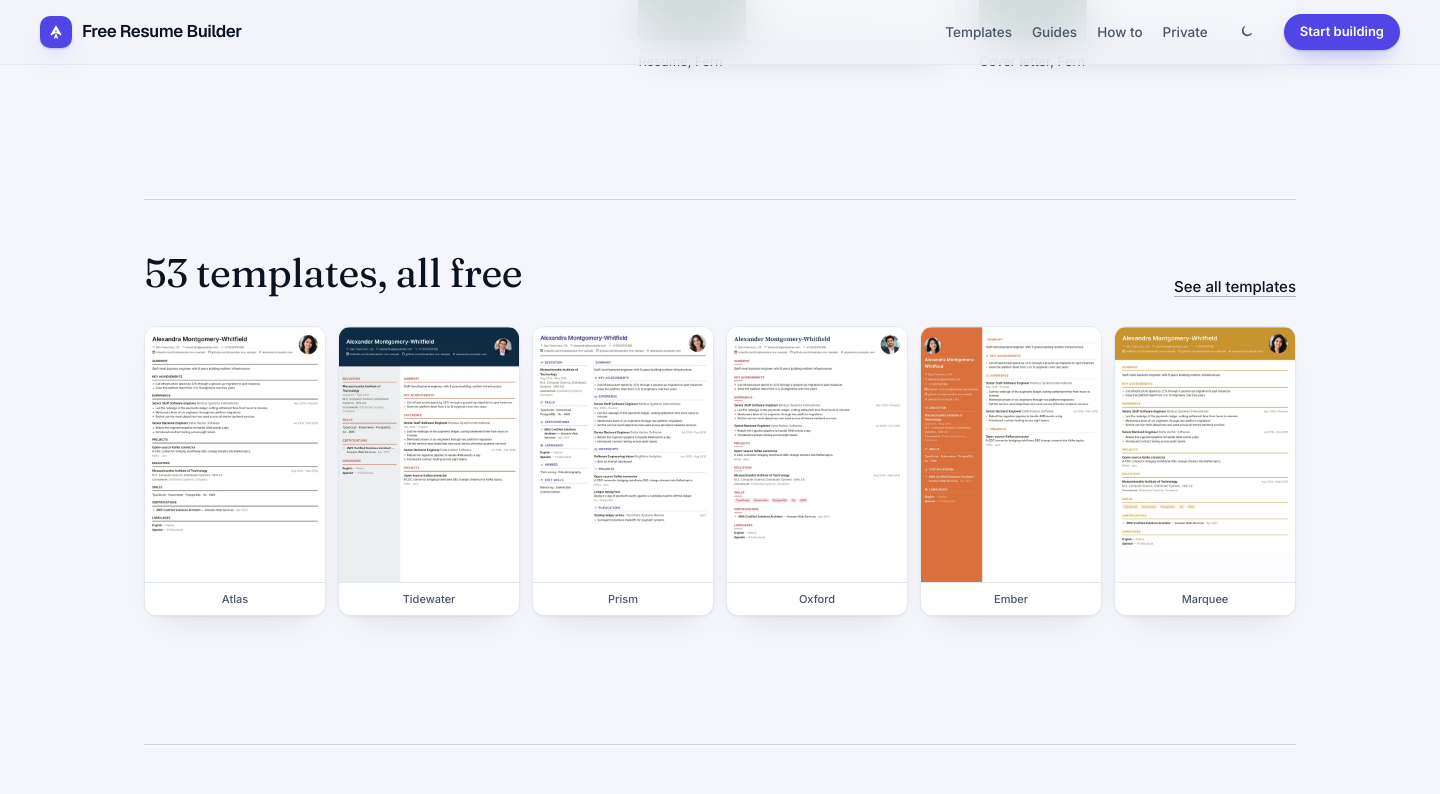
Scenario: homepage › opens the template preview modal from a home-strip card instead of dumping every card onto /templates
(page scrolled)
expect the link "See all templates" is shown: met, box [1174,276,1296,298]
Click the button with aria-label "Preview Atlas layout". click: x=235, y=471
box: [144,326,326,616]
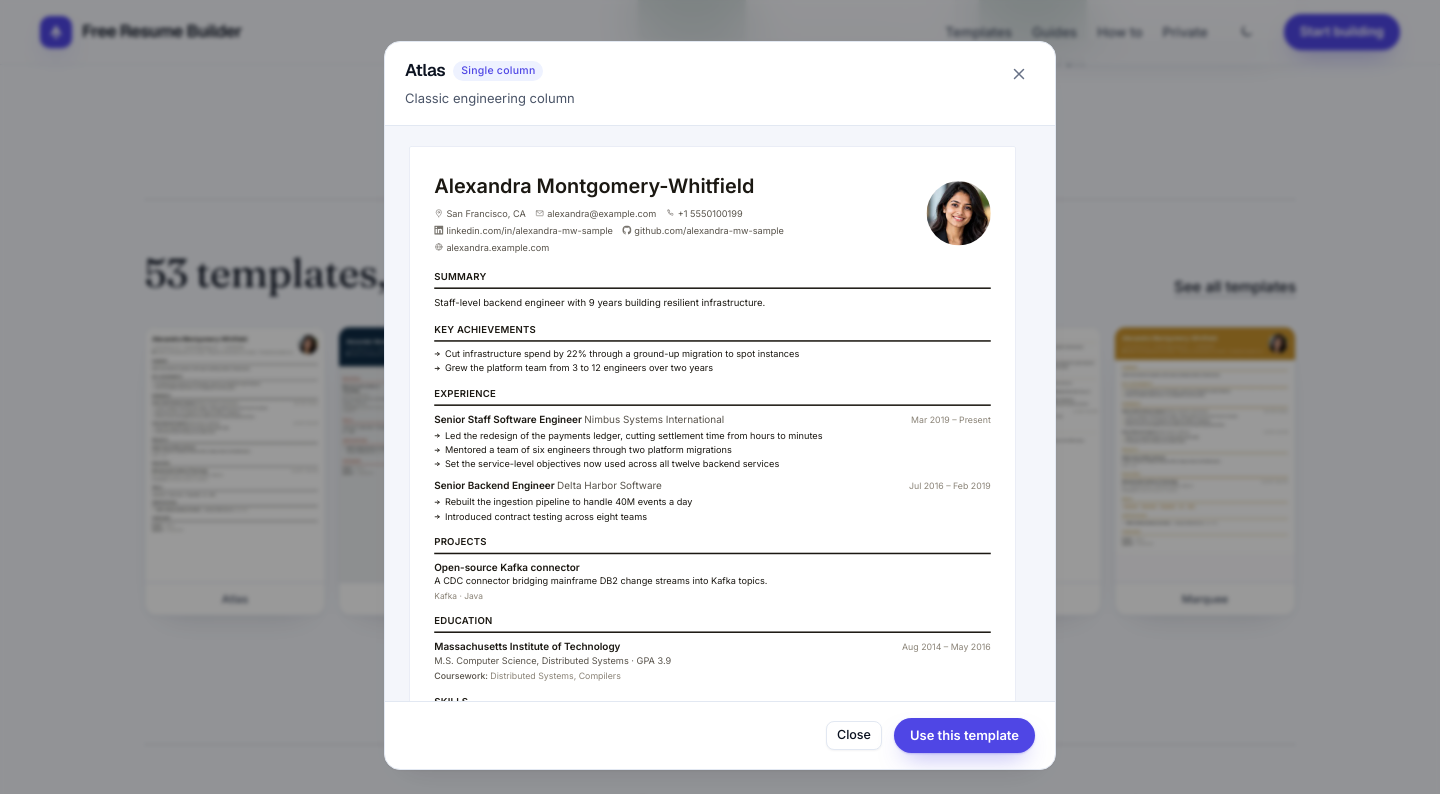
expect the heading "Summary" is shown: met, box [434,270,486,281]
